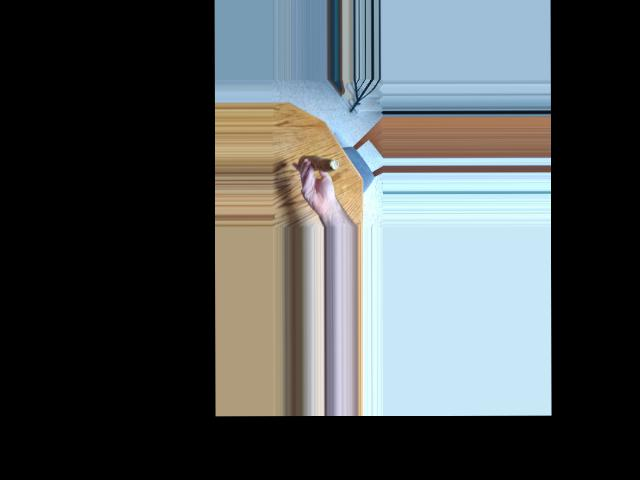sweet_potato: (300, 155, 332, 173)
